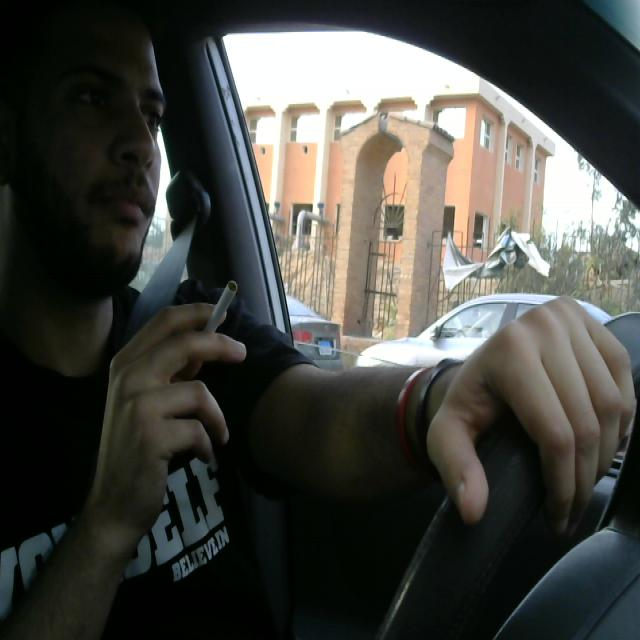smoking: (185, 282, 236, 389)
